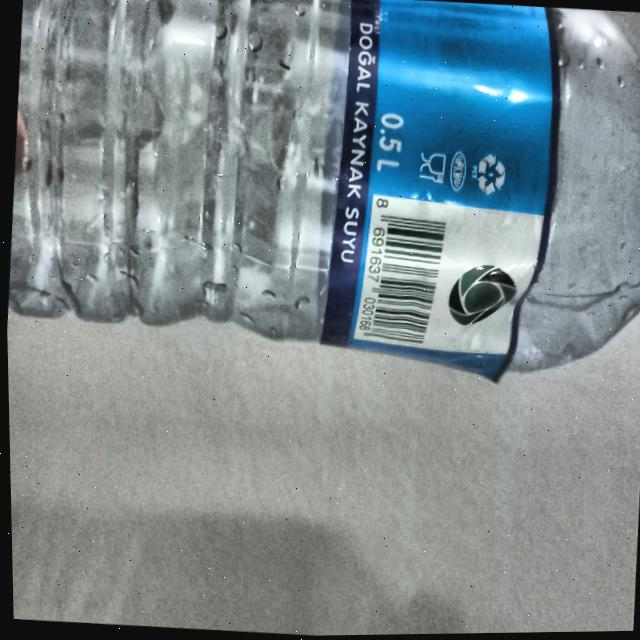plastic: (5, 0, 640, 384)
